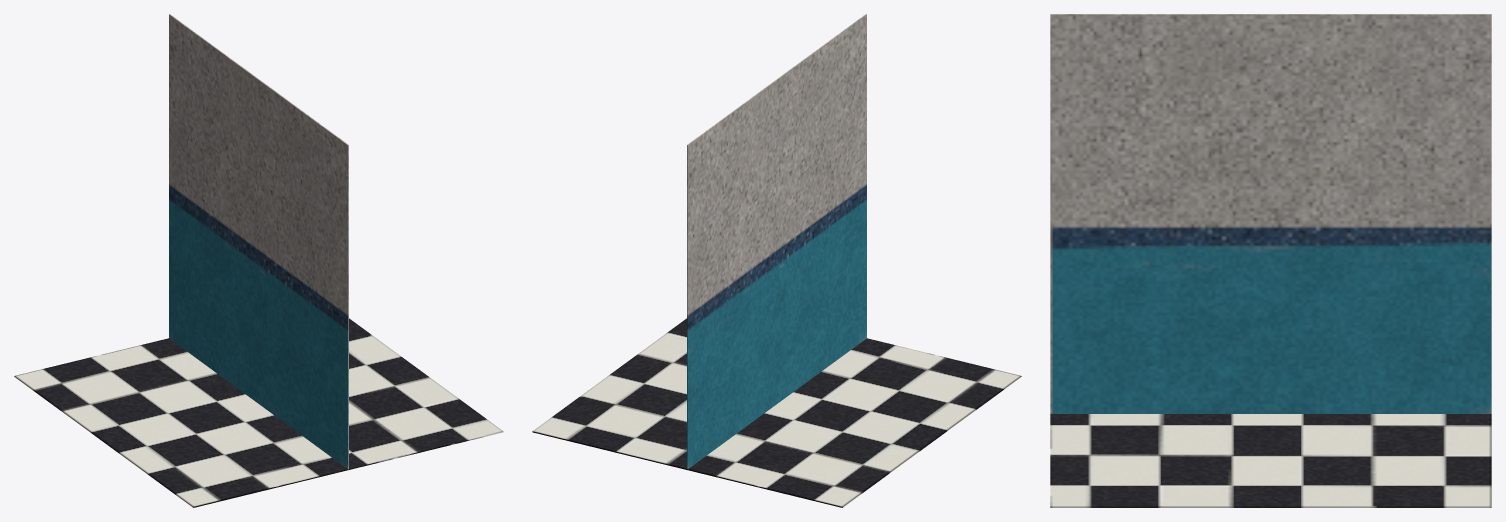
The model's file is tiles_test.glb.
The picture shows the model from 3 angles, left to right: view 1: azimuth 30°, elevation 25°; view 2: azimuth 150°, elevation 25°; view 3: azimuth 270°, elevation 25°; orthographic projection. The views are drawn at different scales.
Visible parts, largest first — view 1: Wall_Variant_1.001, Floor.010; view 2: Wall_Variant_1.001, Floor.010; view 3: Wall_Variant_1.001, Floor.010.
Part boxes in pixels (<box>): Wall_Variant_1.001: <box>169,14,348,469</box>; Floor.010: <box>14,318,503,507</box>; Wall_Variant_1.001: <box>687,14,866,469</box>; Floor.010: <box>532,318,1021,507</box>; Wall_Variant_1.001: <box>1050,14,1491,413</box>; Floor.010: <box>1050,414,1491,507</box>.
Size of the model in its own units: 4 by 4.01 by 4.
Materials: 2 (2 with a texture image).
